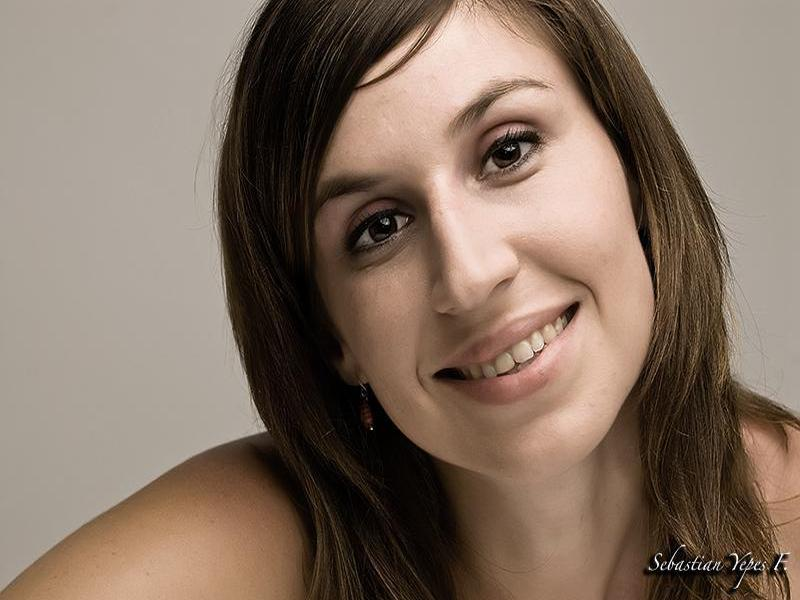person: (57, 5, 799, 600)
